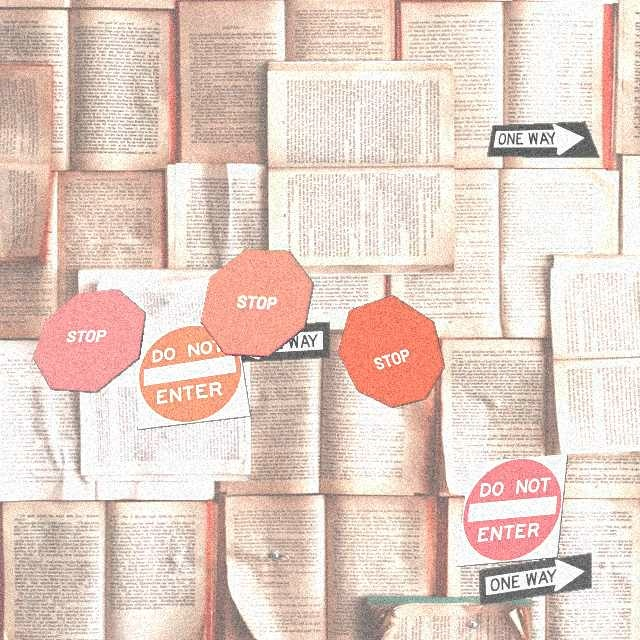DO_NOT_ENTER: (137, 316, 251, 430), (455, 453, 568, 567)
ONE_WAY_ left: (216, 321, 330, 363)
ONE_WAY_ right: (478, 552, 592, 605), (486, 121, 600, 158)
STOP: (200, 248, 314, 357), (337, 294, 445, 408), (32, 288, 146, 393)
